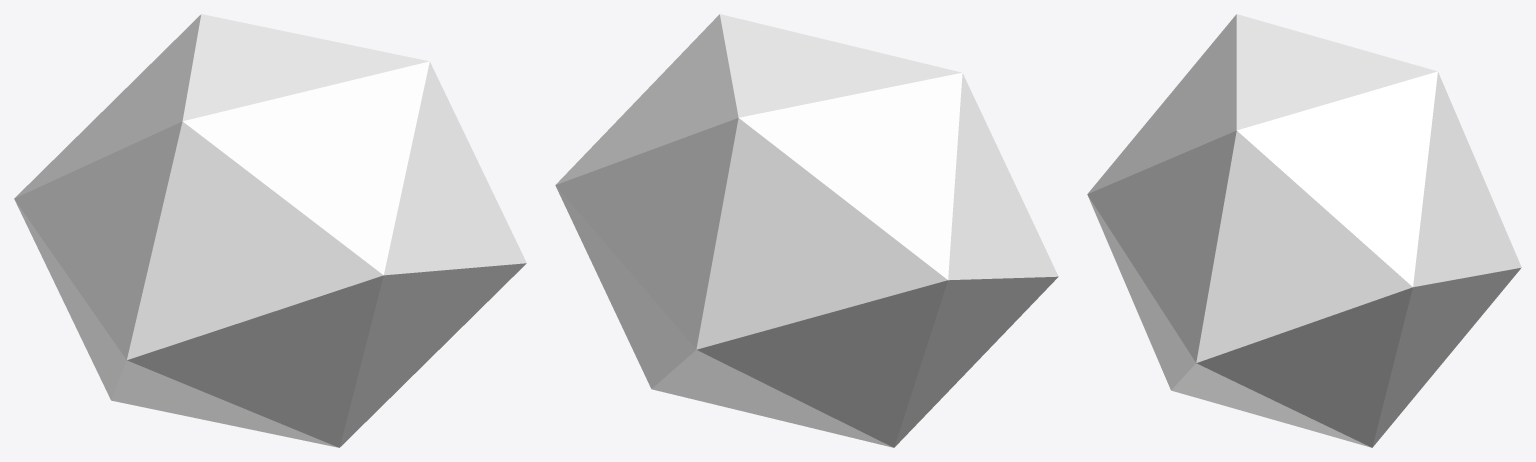
The model's file is Snowball_Alt2.fbx.
The picture shows the model from 3 angles, left to right: view 1: azimuth 30°, elevation 25°; view 2: azimuth 150°, elevation 25°; view 3: azimuth 270°, elevation 25°; orthographic projection. The views are drawn at different scales.
Visible parts, largest first — view 1: Snowball_Alt2; view 2: Snowball_Alt2; view 3: Snowball_Alt2.
Boxes of the visible parts, x1=… form: Snowball_Alt2: x1=14, y1=14, x2=526, y2=447; Snowball_Alt2: x1=555, y1=14, x2=1058, y2=447; Snowball_Alt2: x1=1087, y1=14, x2=1521, y2=447.
Bounding box in the file's own units: 0.1286 × 0.102 × 0.1258.
